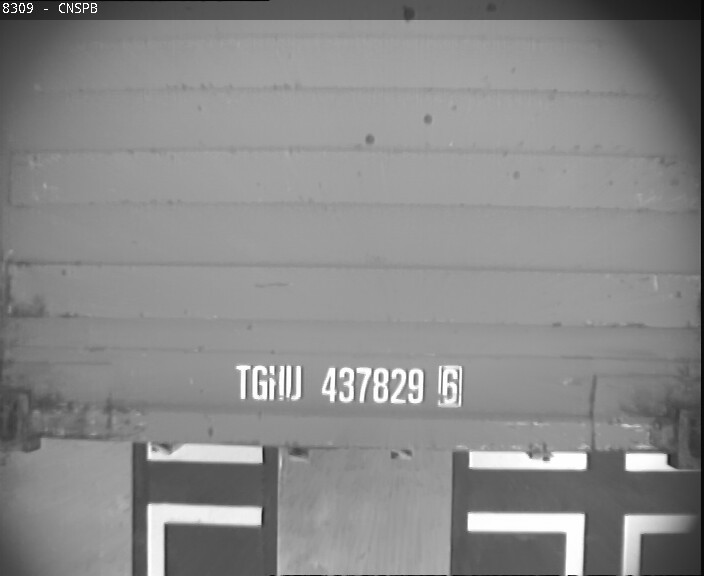groundmarker_1: (468, 511, 703, 576)
